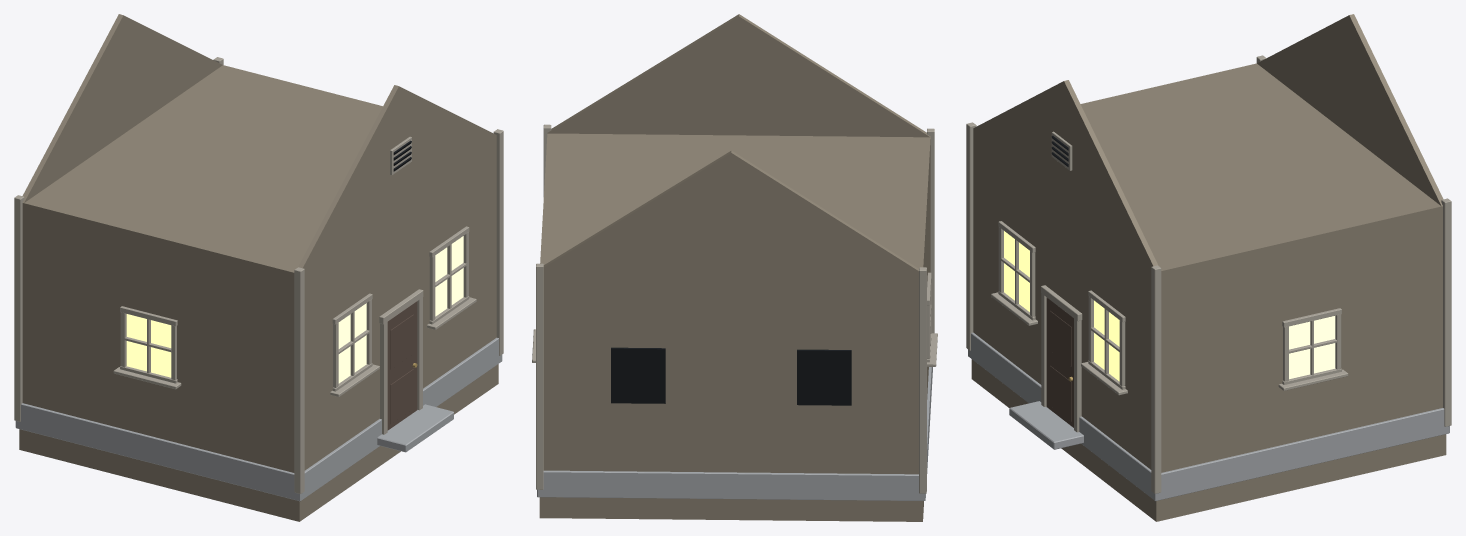
Rendered from house3_walls.glb.
3 views of the same model, side by side, from view 1: azimuth 30°, elevation 25°; view 2: azimuth 150°, elevation 25°; view 3: azimuth 270°, elevation 25° (orthographic).
Visible parts, largest first — view 1: house3_walls; view 2: house3_walls; view 3: house3_walls.
Boxes of the visible parts, <box> form: house3_walls: <box>14,14,503,521</box>; house3_walls: <box>532,14,937,521</box>; house3_walls: <box>966,14,1451,521</box>.
Bounding box in the file's own units: 9.2 × 7.4 × 8.8.
